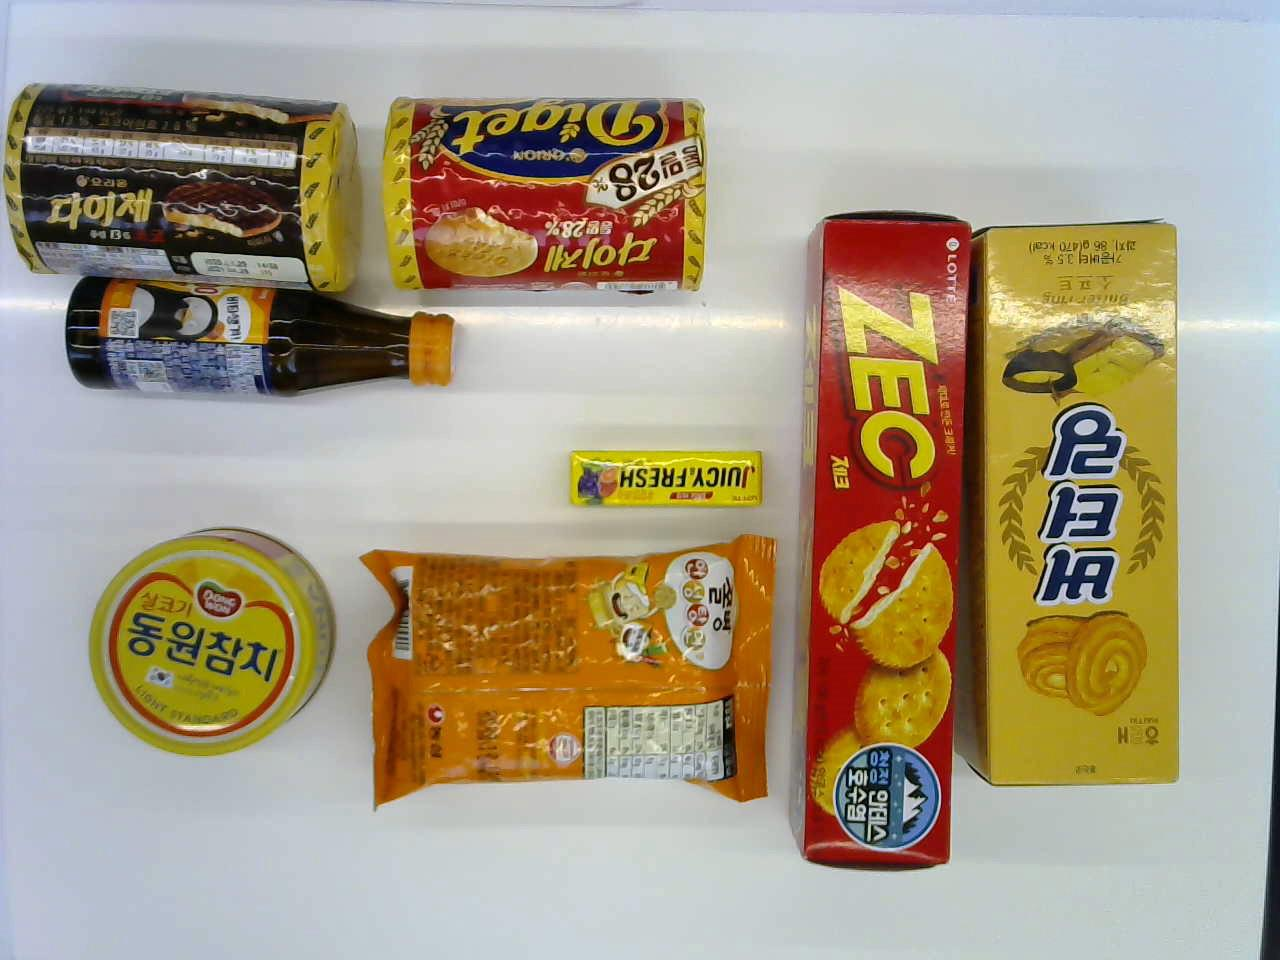buttering: (965, 212, 1196, 800)
diget_choco: (7, 74, 362, 296)
diget_ori: (368, 82, 723, 303)
jjolbyung_noodle: (357, 541, 769, 806)
juicyfresh: (556, 442, 774, 519)
tuna: (86, 518, 341, 769)
vita500: (71, 276, 456, 405)
zec: (798, 208, 969, 883)
